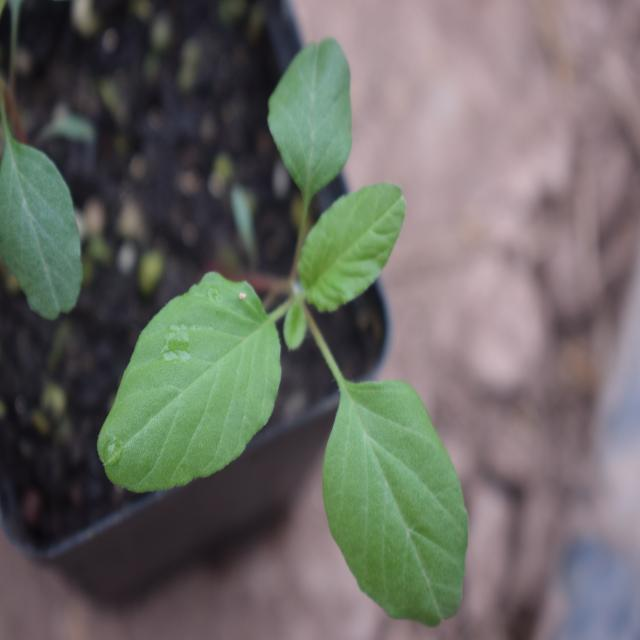pigweed: (125, 59, 478, 609)
